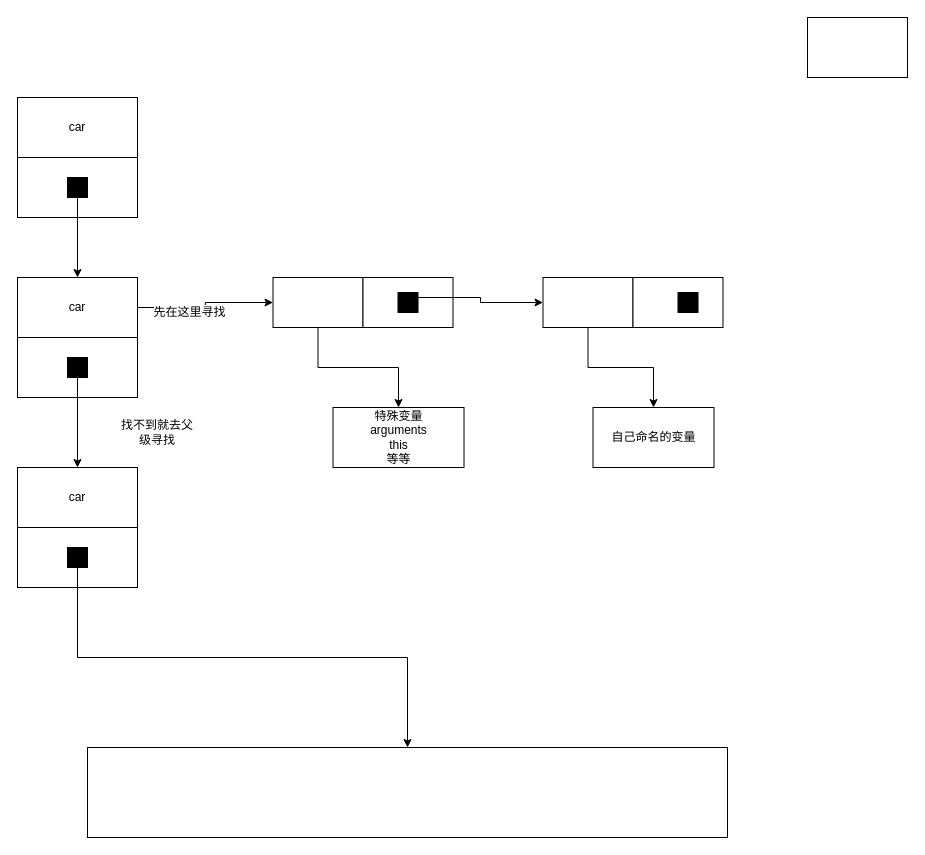
Image size: 925x855. Some labels were removed from this diagram. The centre of each missing label's shape, as x and y in pixels:
全局环境: [407,792]
外部环境地址: [857,47]
